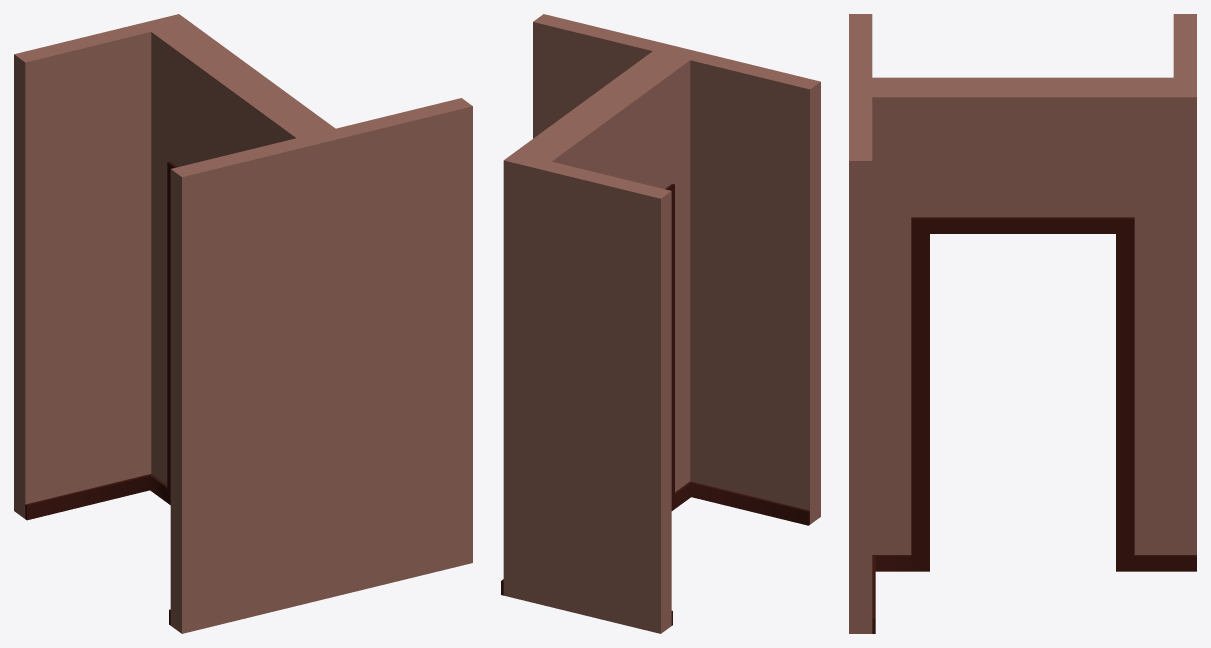
The model's file is T_Porte_05.fbx.
3 views of the same model, side by side, from view 1: azimuth 30°, elevation 25°; view 2: azimuth 150°, elevation 25°; view 3: azimuth 270°, elevation 25° (orthographic). The views are drawn at different scales.
Visible parts, largest first — view 1: T_Porte_05; view 2: T_Porte_05; view 3: T_Porte_05.
Part boxes in pixels (x1,y1,x2,y2): T_Porte_05: (14, 14, 472, 633); T_Porte_05: (501, 14, 820, 633); T_Porte_05: (849, 14, 1196, 633).
Size of the model in its own units: 200 by 300 by 200.
